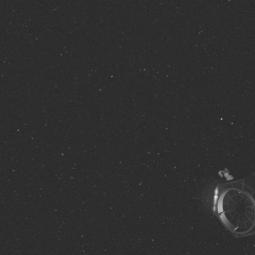earth_observation_sat_1: (203, 163, 255, 253)
